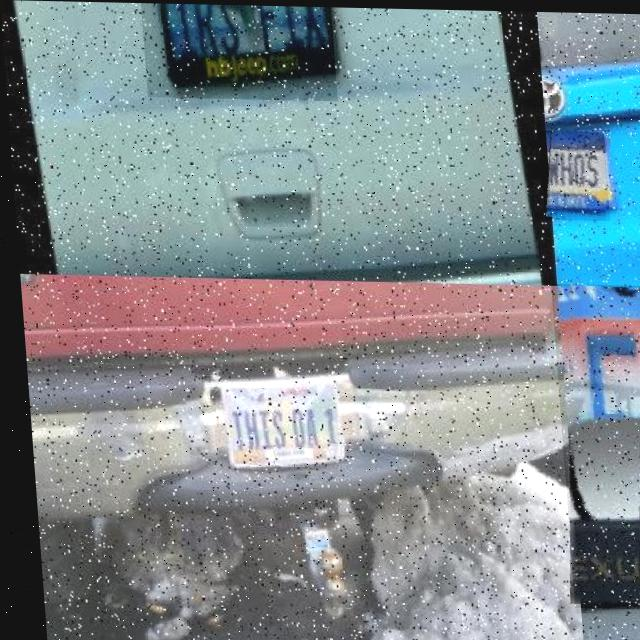LicensePlate: (547, 281, 640, 607), (141, 2, 336, 100), (209, 389, 331, 474), (542, 129, 602, 218)
